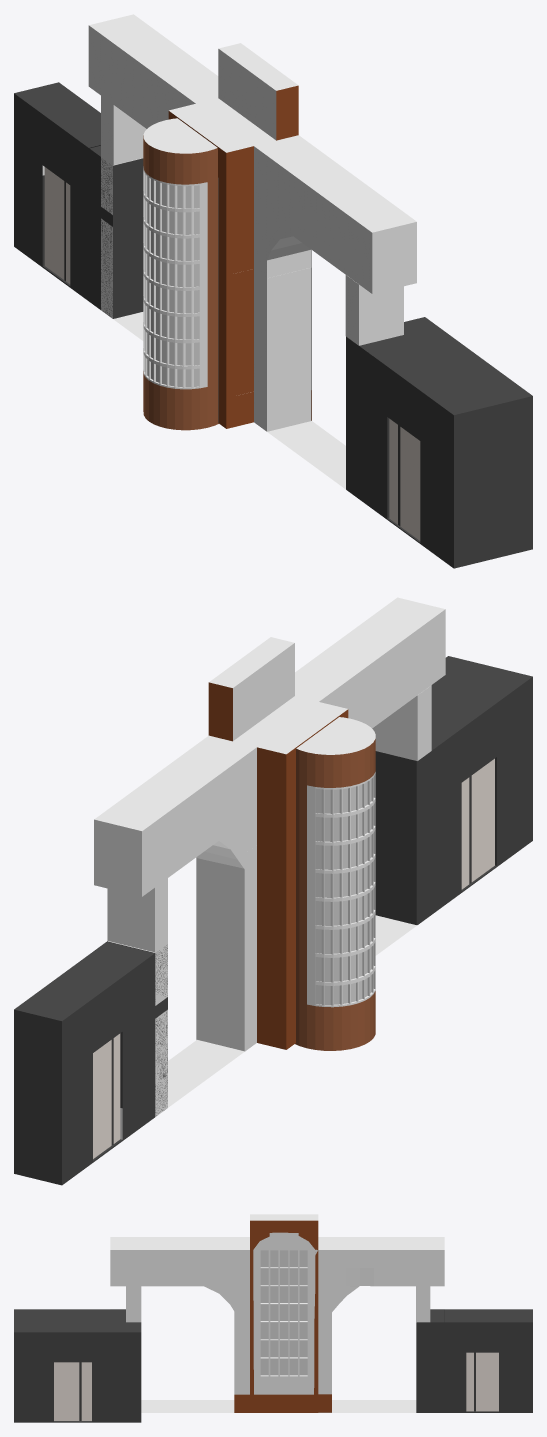
The model's file is vorodii .fbx.
The picture shows the model from 3 angles, top to bottom: view 1: azimuth 30°, elevation 25°; view 2: azimuth 150°, elevation 25°; view 3: azimuth 270°, elevation 25°; orthographic projection. The views are drawn at different scales.
Parts seen in each view (by area): view 1: Cube, Cylinder; view 2: Cube, Cylinder; view 3: Cube.
Part boxes in pixels (x1,y1,x2,y2): Cube: (14, 14, 532, 568); Cylinder: (143, 118, 218, 430); Cube: (14, 597, 532, 1185); Cylinder: (295, 717, 375, 1050); Cube: (14, 1214, 532, 1422).
Size of the model in its own units: 1285 by 2586 by 6299.
